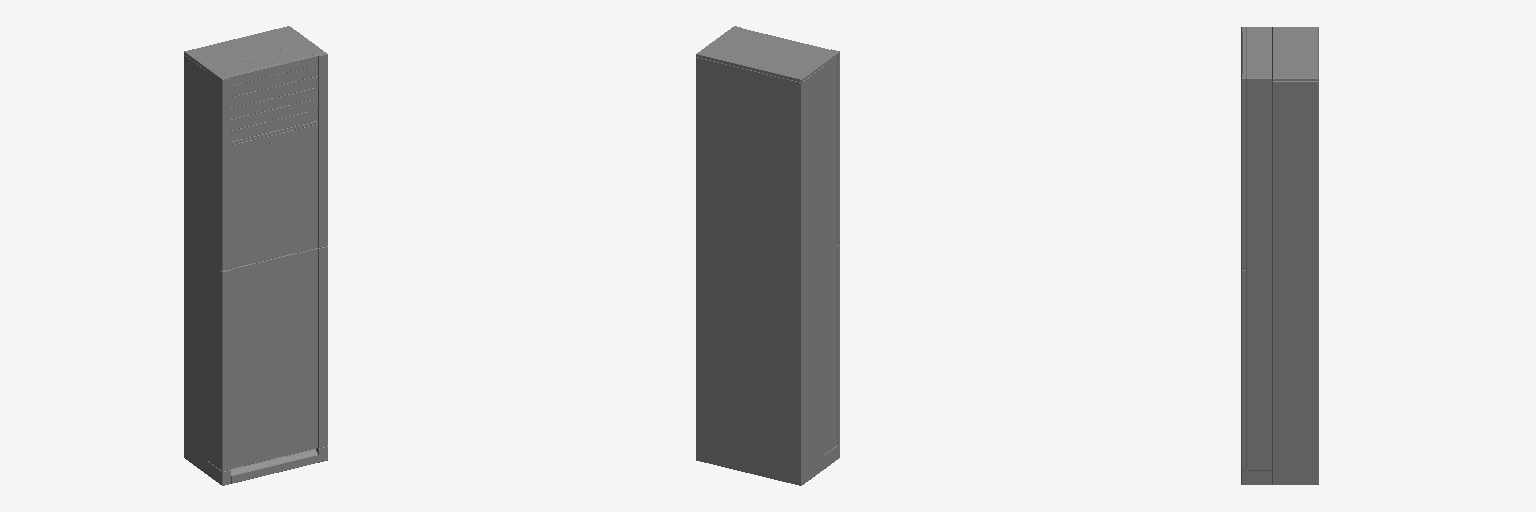
File: kongtiao.obj
The picture shows the model from 3 angles: view 1: azimuth 30°, elevation 25°; view 2: azimuth 150°, elevation 25°; view 3: azimuth 270°, elevation 25°; orthographic projection.
Parts seen in each view (by area): view 1: kongtiao; view 2: kongtiao; view 3: kongtiao.
Boxes of the visible parts, box(x1,y1,x2,y2) form: kongtiao: box(184, 26, 327, 485); kongtiao: box(696, 26, 839, 485); kongtiao: box(1241, 27, 1318, 484).
Size of the model in its own units: 50 by 184 by 31.62.